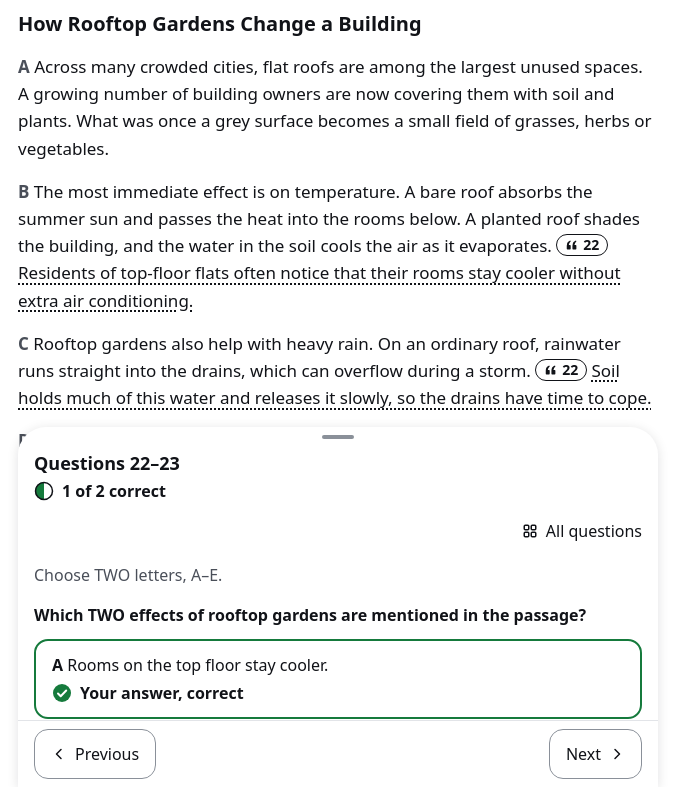
Test: ReviewWorkspace › a choose-several item has one aggregate outcome, and both its numbers show it in the navigator
Expected: the heading "Questions 22–23 1 of 2 correct" is shown, [34, 451, 180, 502]
Step 1. Click the button "All questions" → (582, 531), box [510, 507, 654, 555]
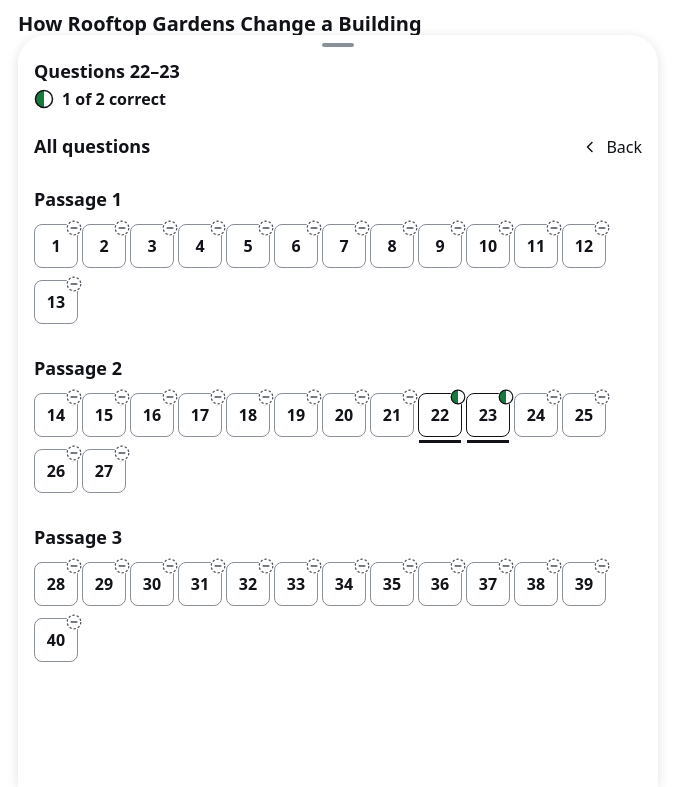
Expected: the number of buttons named "Questions 22–23, partly correct, current" is 2, [418, 393, 462, 437]; [466, 393, 510, 437]
Expected: the button named "Question 1, no answer" is shown, [34, 224, 78, 268]
